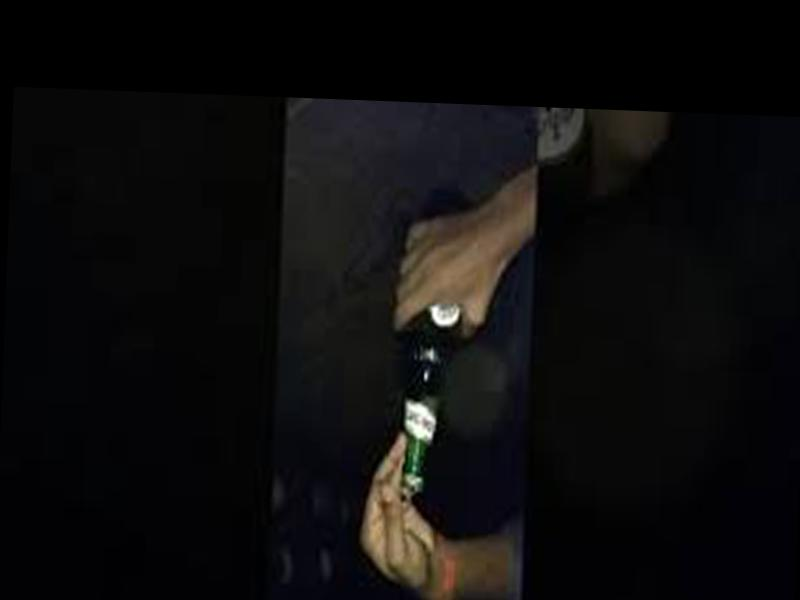Beer: (393, 190, 479, 493)
